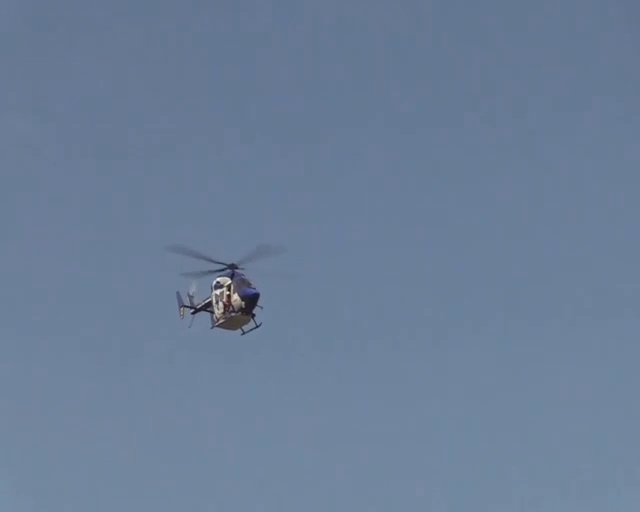HELICOPTER: (165, 240, 286, 336)
